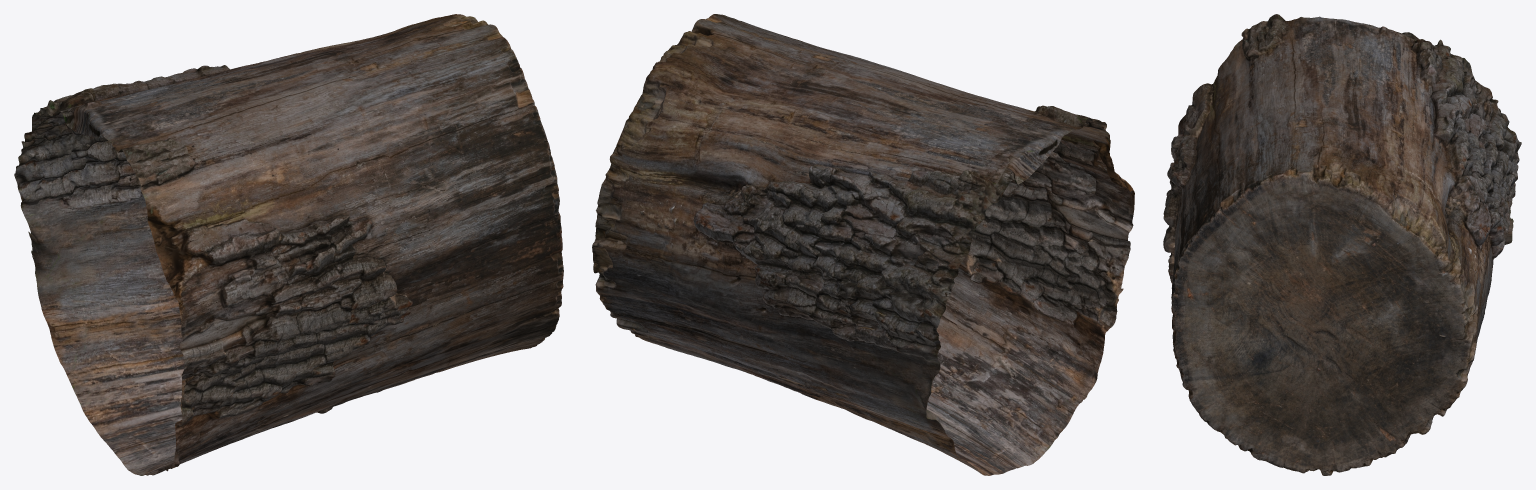
File: chop-trunk.fbx
3 views of the same model, side by side, from view 1: azimuth 30°, elevation 25°; view 2: azimuth 150°, elevation 25°; view 3: azimuth 270°, elevation 25° (orthographic). The views are drawn at different scales.
Visible parts, largest first — view 1: Model; view 2: Model; view 3: Model.
Boxes of the visible parts, <box> form: Model: <box>14,14,563,475</box>; Model: <box>592,14,1134,475</box>; Model: <box>1163,14,1521,475</box>.
Bounding box in the file's own units: 642 × 546 × 525.
